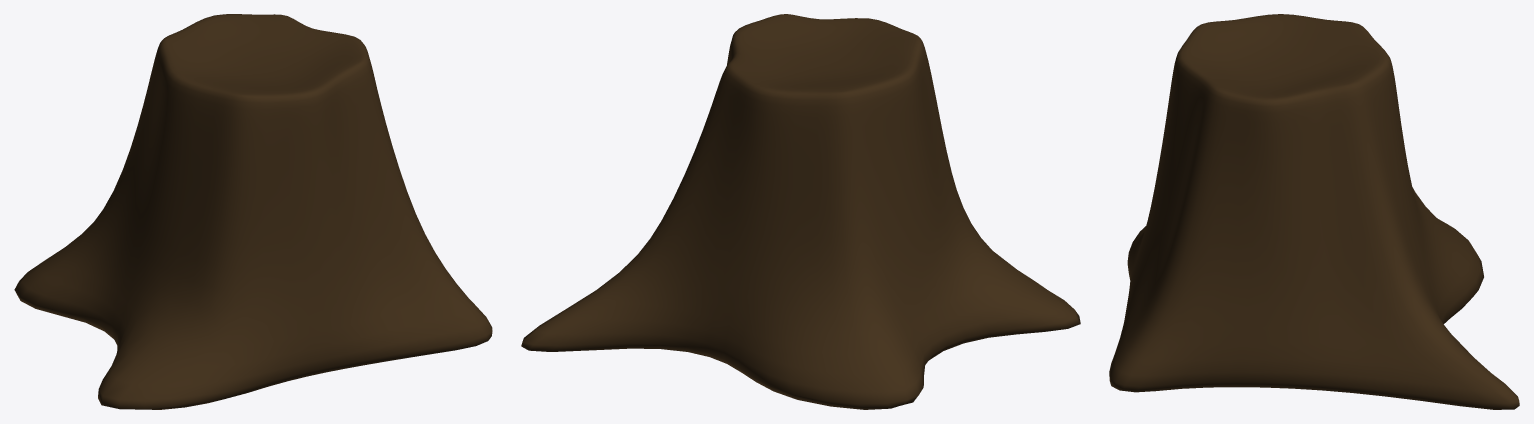
File: stump.fbx
The picture shows the model from 3 angles, left to right: view 1: azimuth 30°, elevation 25°; view 2: azimuth 150°, elevation 25°; view 3: azimuth 270°, elevation 25°; orthographic projection. The views are drawn at different scales.
Visible parts, largest first — view 1: Stump; view 2: Stump; view 3: Stump.
Part boxes in pixels (<box>): Stump: <box>14,14,492,409</box>; Stump: <box>521,14,1080,409</box>; Stump: <box>1109,14,1519,409</box>.
Size of the model in its own units: 149 by 96.38 by 131.
